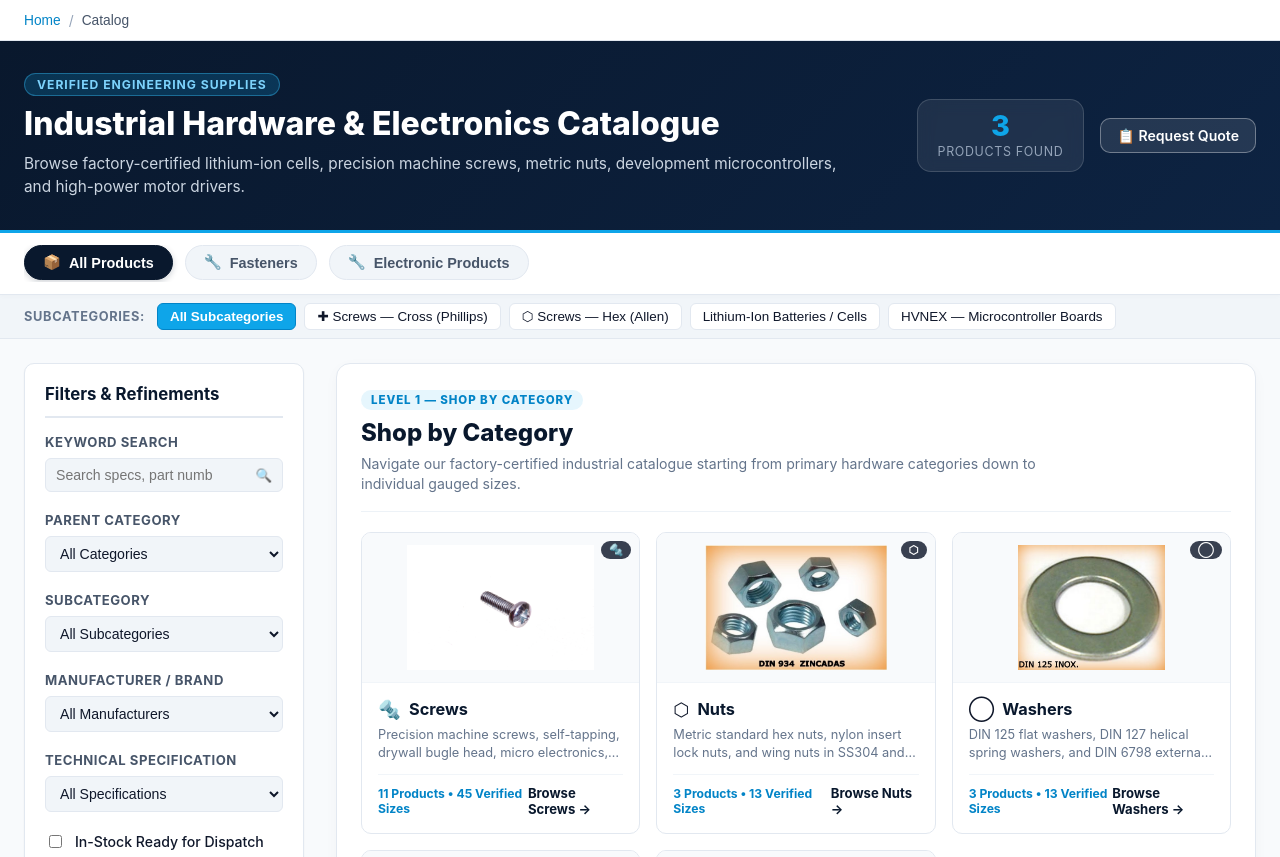
Test: VERTEX ProductListPage Component Suite › 2. Filters catalogue by parent category
Click the button "🔧 Fasteners" at (251, 263), box [185, 245, 317, 280]
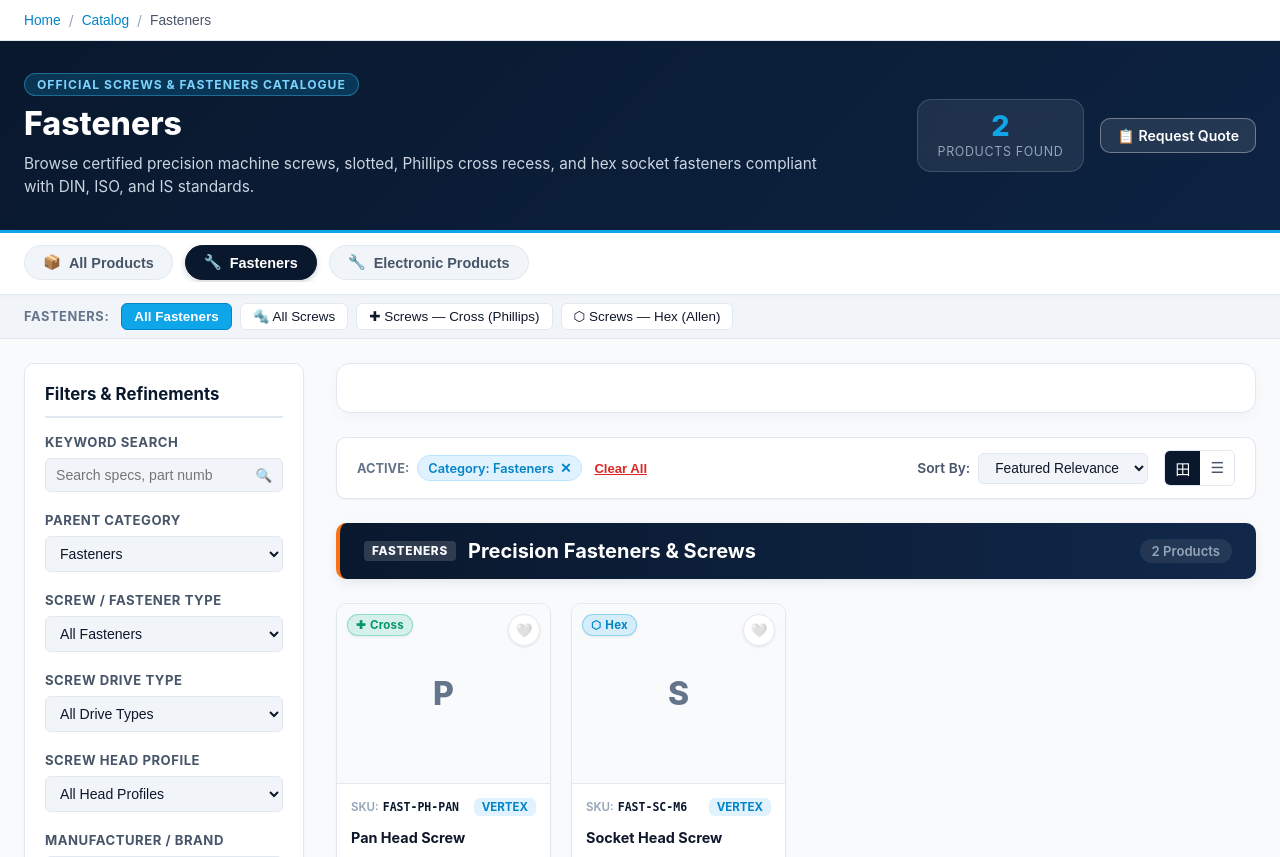
Check: the text "2" is shown, box [991, 108, 1010, 143]
Check: the heading "Pan Head Screw" is shown, box [351, 829, 465, 846]
Check: the heading "Socket Head Screw" is shown, box [586, 829, 722, 846]
